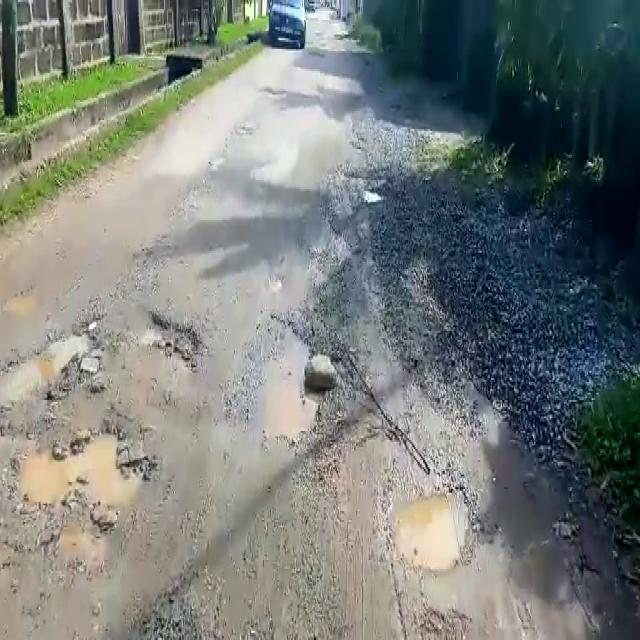Pothole: (11, 426, 153, 511), (236, 313, 322, 441), (2, 314, 106, 419), (383, 481, 473, 572), (130, 308, 200, 368)
